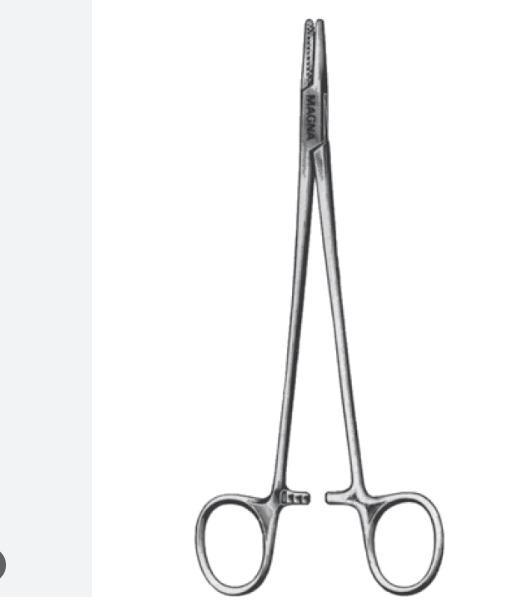Needle Holder: (195, 10, 450, 597)
